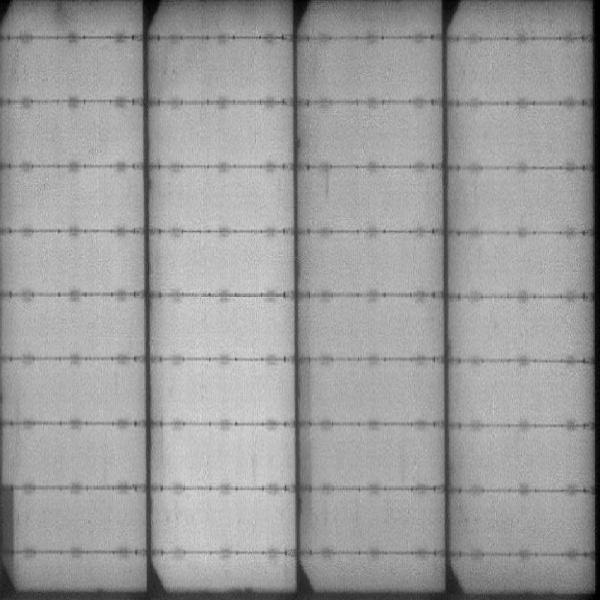black_border: (1, 476, 21, 579)
